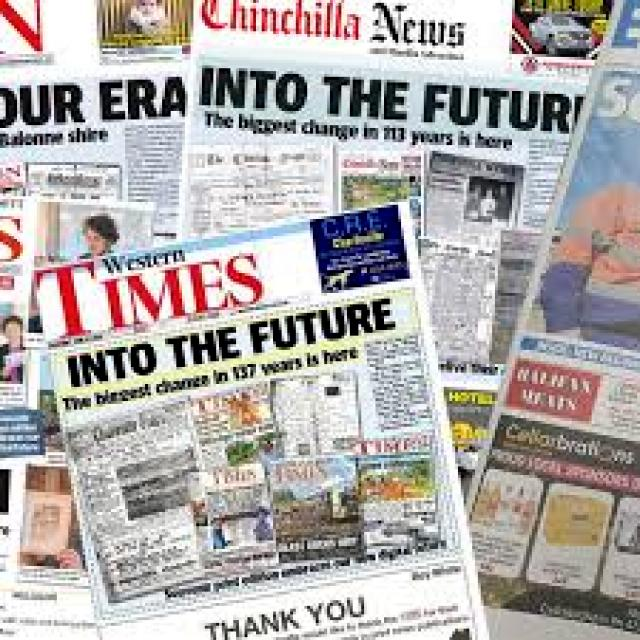Paper: (0, 0, 640, 640), (29, 190, 490, 640), (439, 0, 640, 640)
